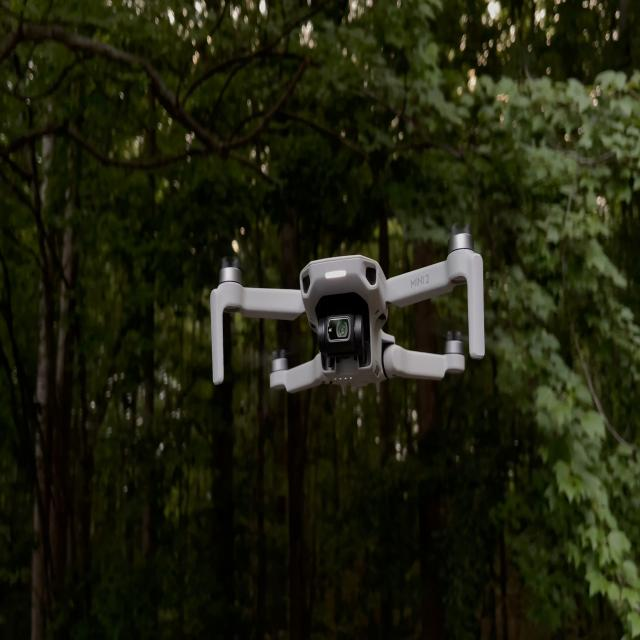Drone: (211, 236, 488, 416)
